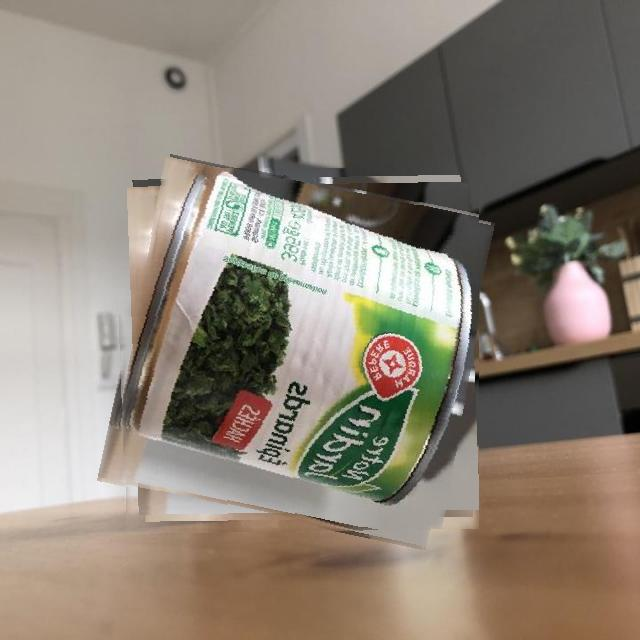recyclable: (113, 168, 479, 534)
